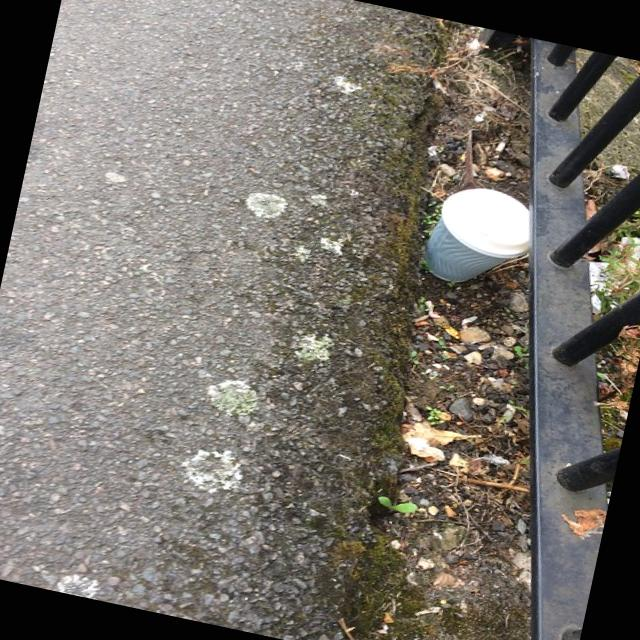Recycle: (416, 176, 541, 299)
